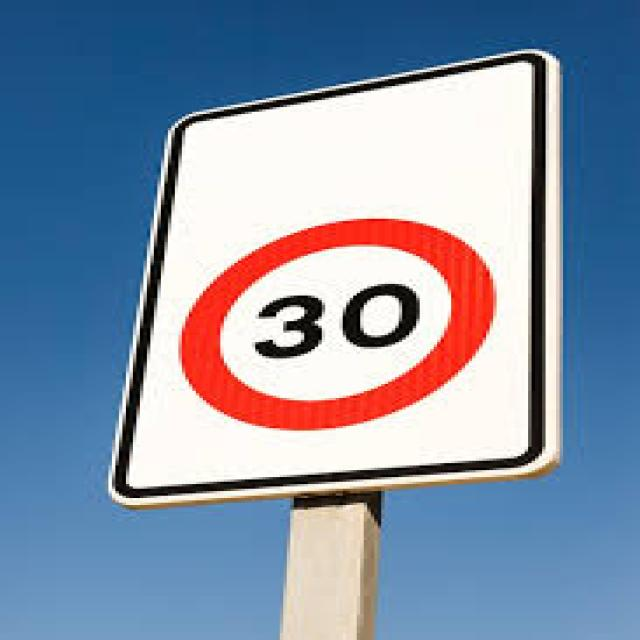Speed limit 30: (176, 215, 497, 432)
